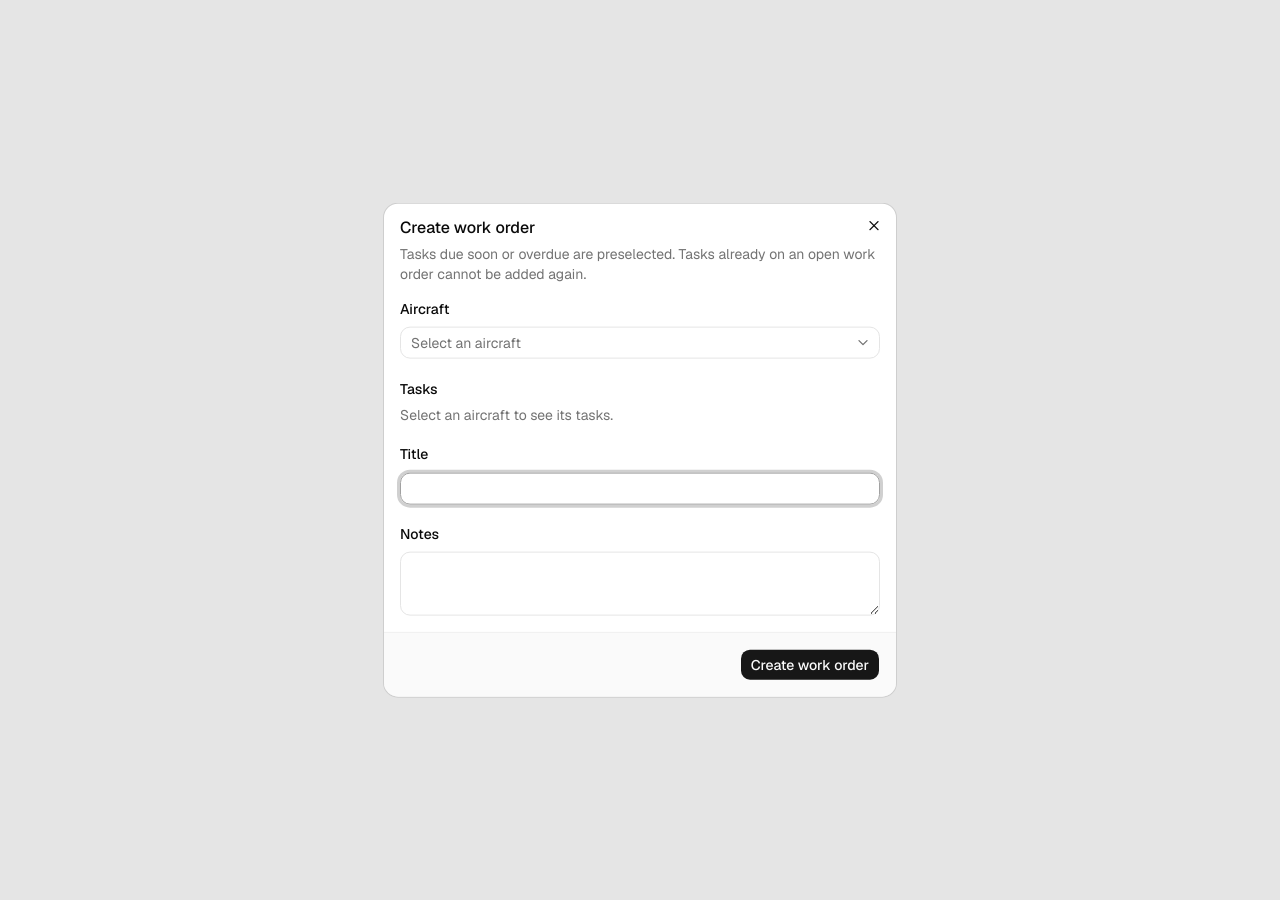
CreateWorkOrderDialog › requires an aircraft, a task and a title
Click the button "Create work order" at (810, 664), box [740,648,880,680]
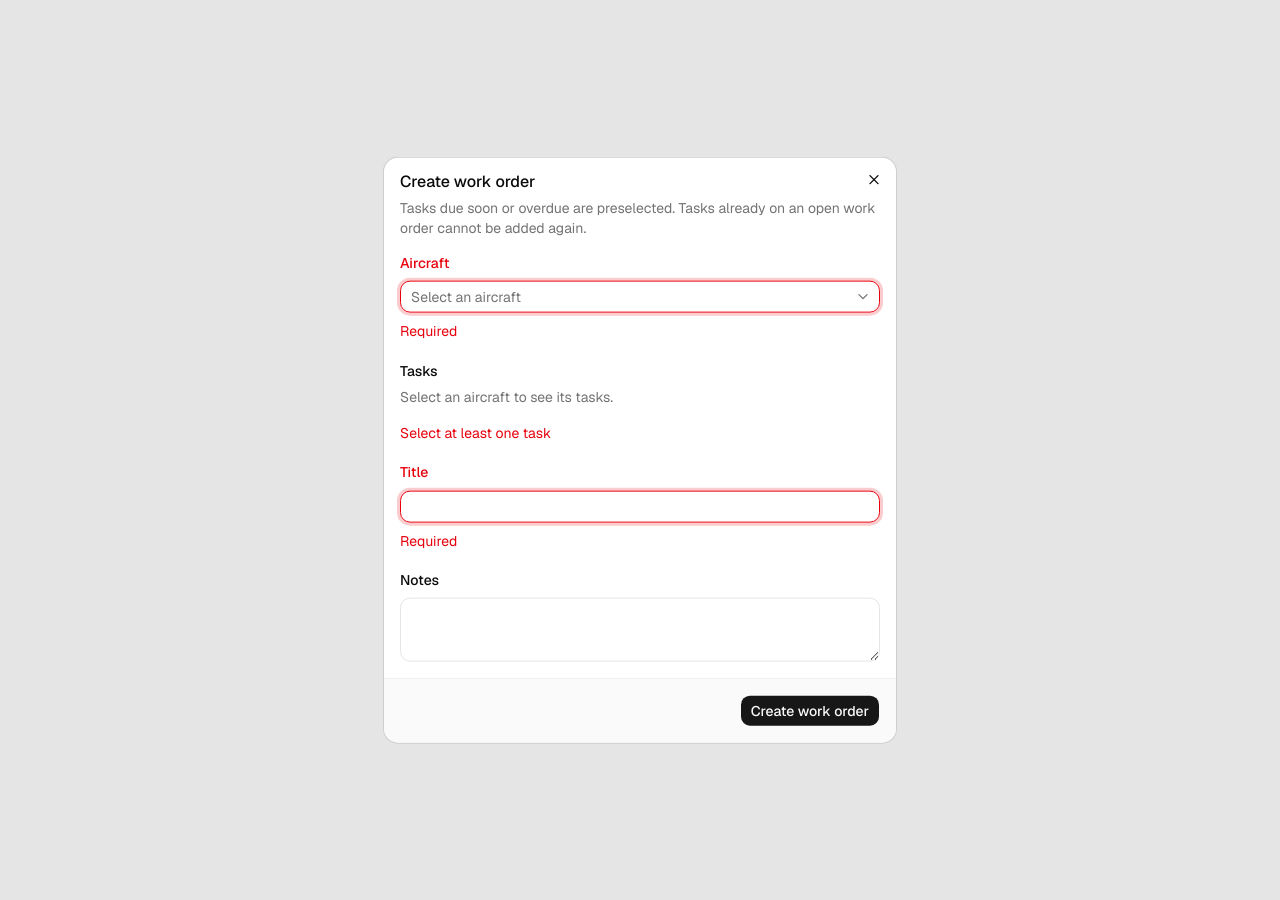
Result: the text "Select at least one task" is shown at [400,424,551,442]
Result: the text "Required" is shown 2 times at [400,322,457,340]; [400,531,457,549]
